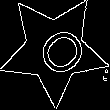O_SW: (22, 17, 86, 83)
